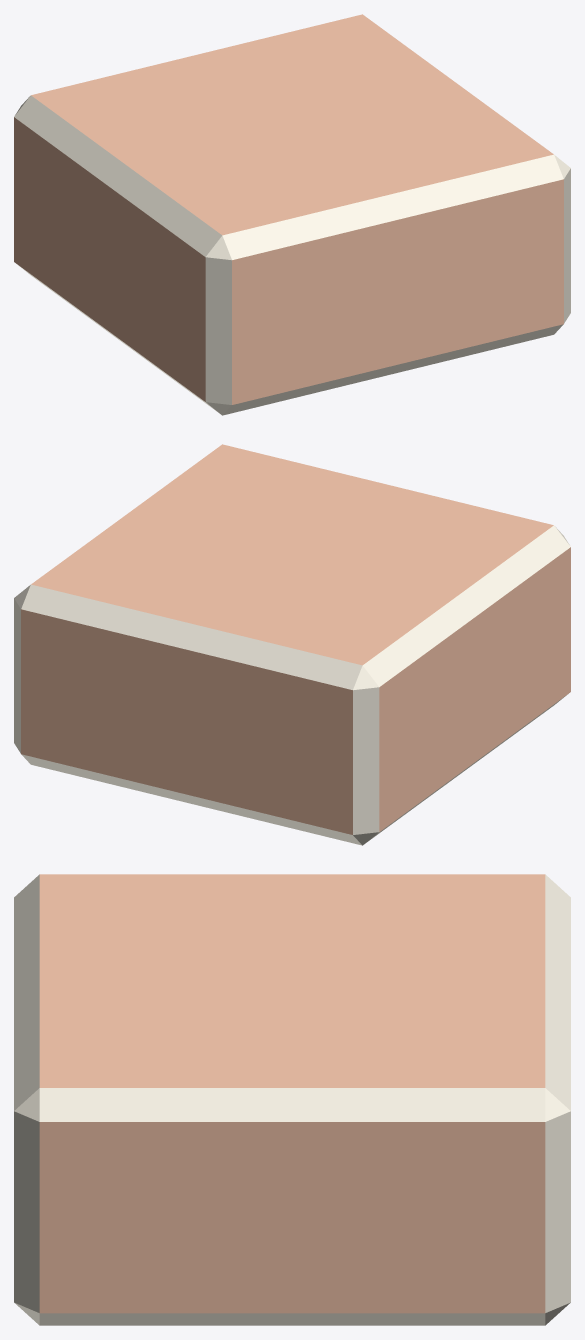
The model's file is R4B_HalfBlock_LOD1.fbx.
The picture shows the model from 3 angles, top to bottom: view 1: azimuth 30°, elevation 25°; view 2: azimuth 150°, elevation 25°; view 3: azimuth 270°, elevation 25°; orthographic projection. The views are drawn at different scales.
Parts seen in each view (by area): view 1: R4B_HalfBlock_LOD1; view 2: R4B_HalfBlock_LOD1; view 3: R4B_HalfBlock_LOD1.
Part boxes in pixels (<box>): R4B_HalfBlock_LOD1: <box>14,14,570,415</box>; R4B_HalfBlock_LOD1: <box>14,444,570,845</box>; R4B_HalfBlock_LOD1: <box>14,874,570,1325</box>.
Size of the model in its own units: 0.52 by 0.245 by 0.52.
